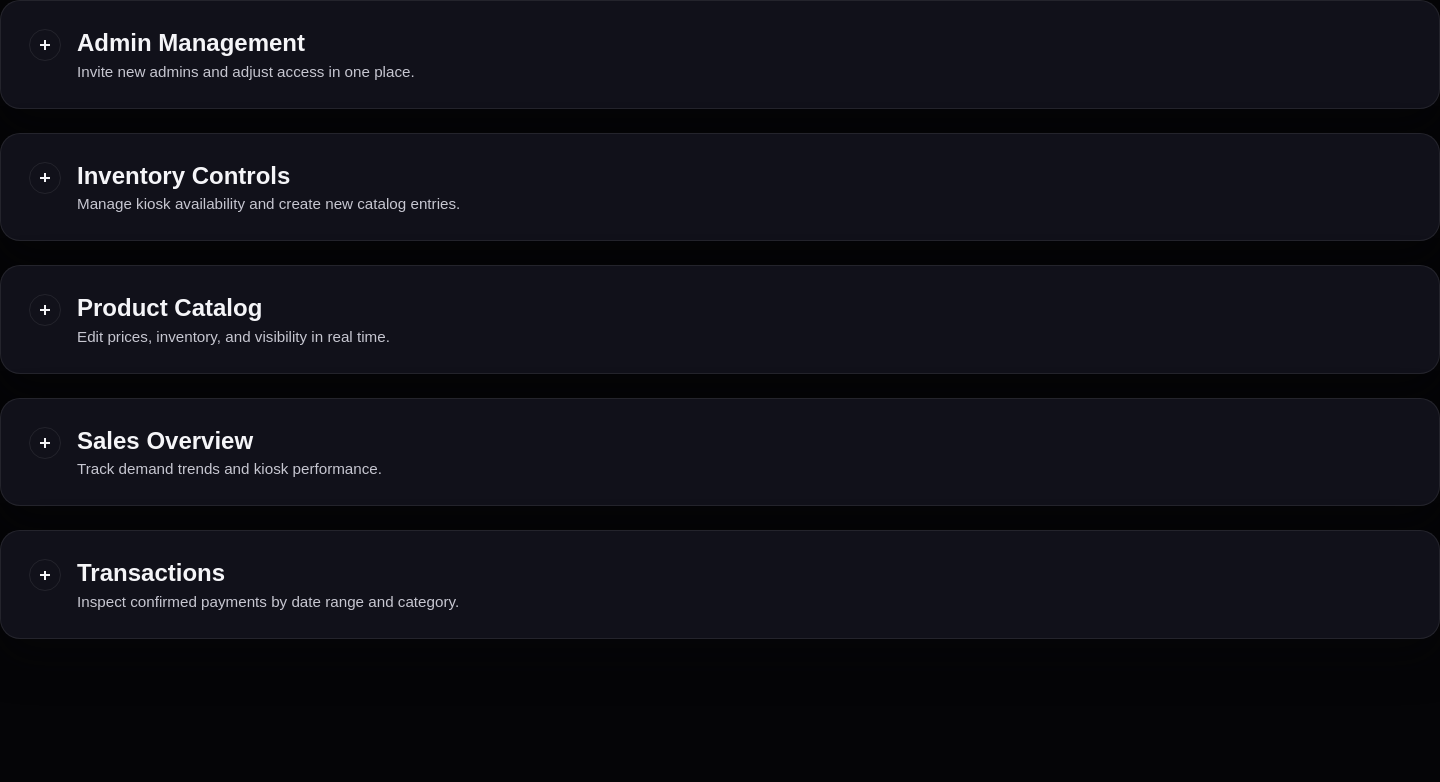
Test case: AdminDashboard › requests inventory mode toggle
The image size is (1440, 782).
Click the button "Inventory Controls".
click(45, 178)  # box [29,162,1411,212]
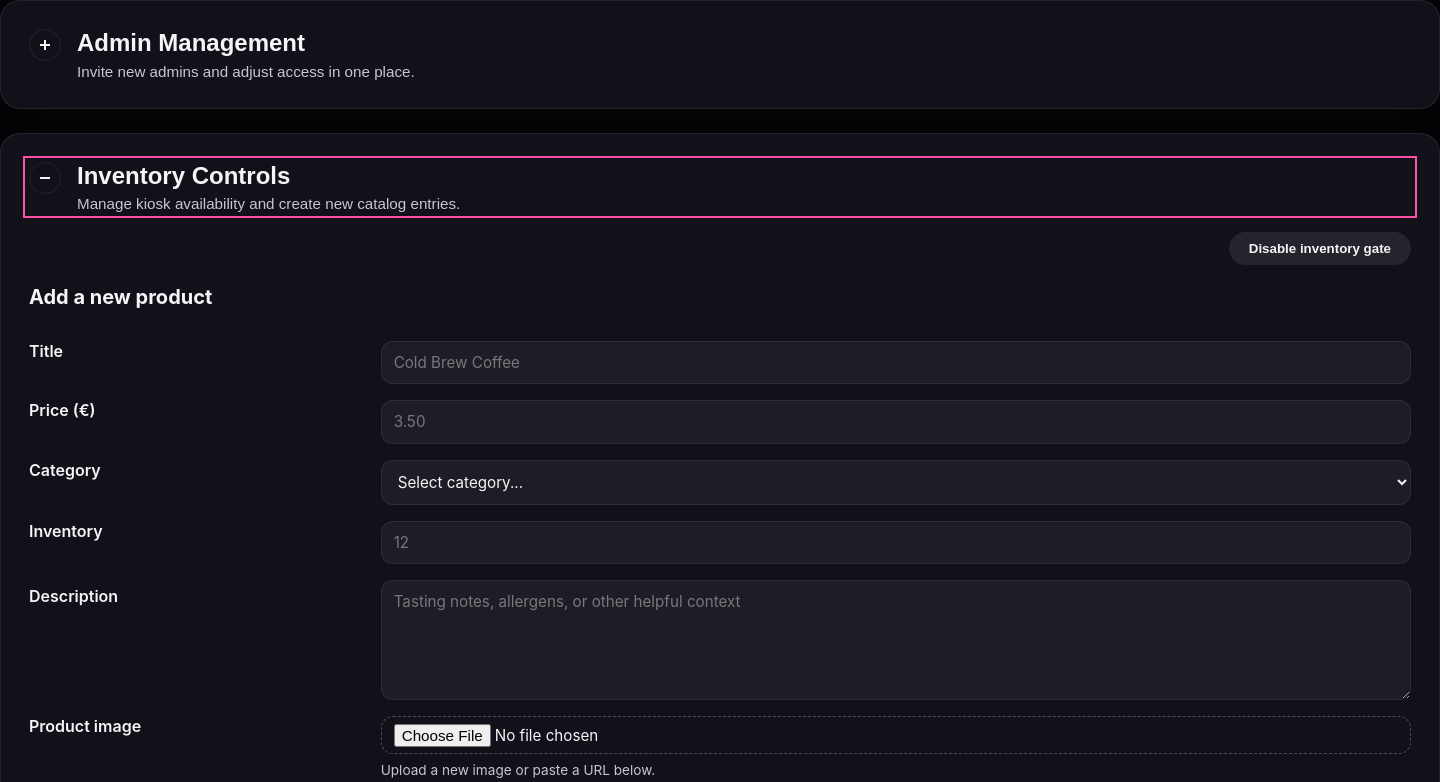
Click the button "Disable inventory gate".
click(1320, 248)  # box [1229,232,1411,265]
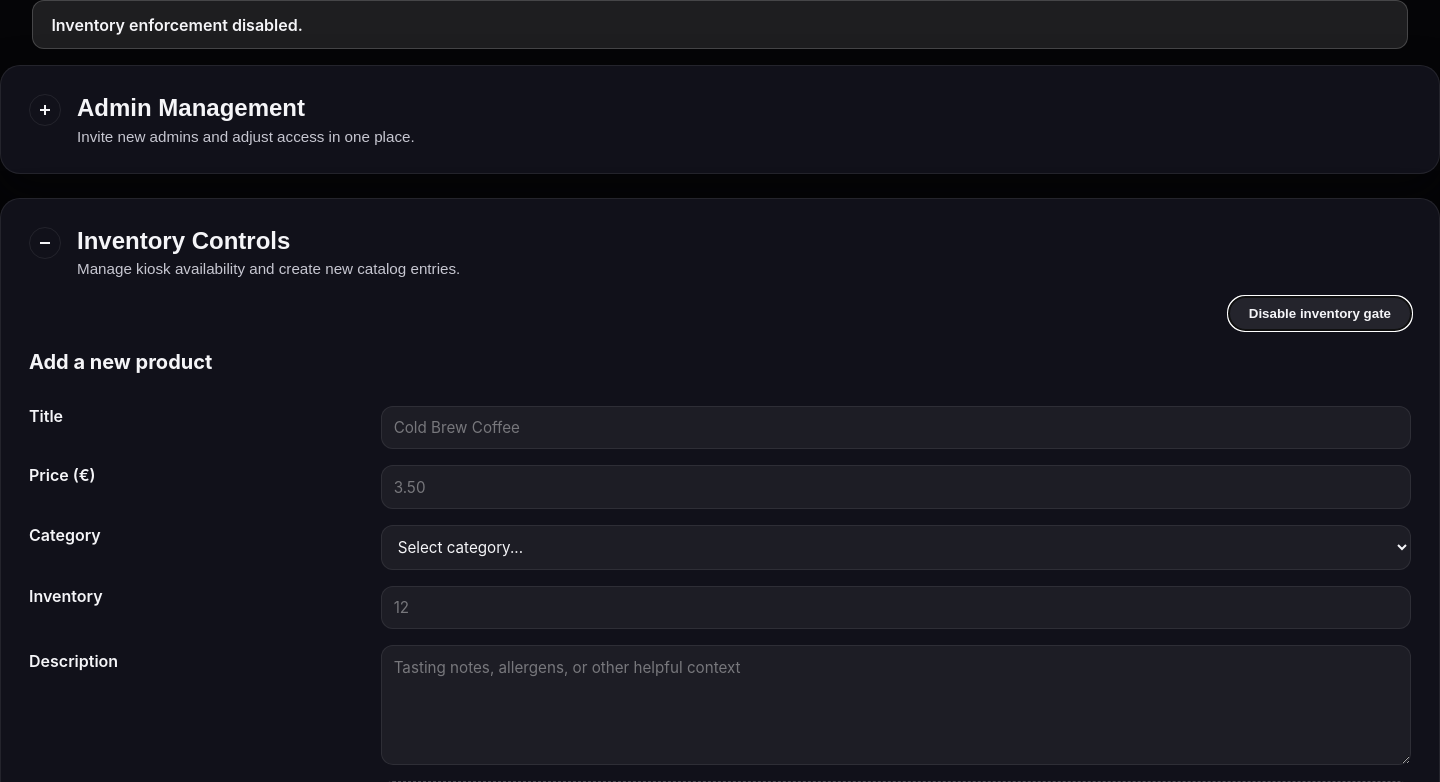
Expected: the text "Inventory enforcement disabled." is shown, [32,0,1408,49]
